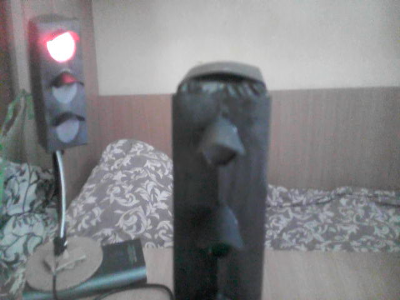trafficlight_red: (38, 20, 84, 144)
